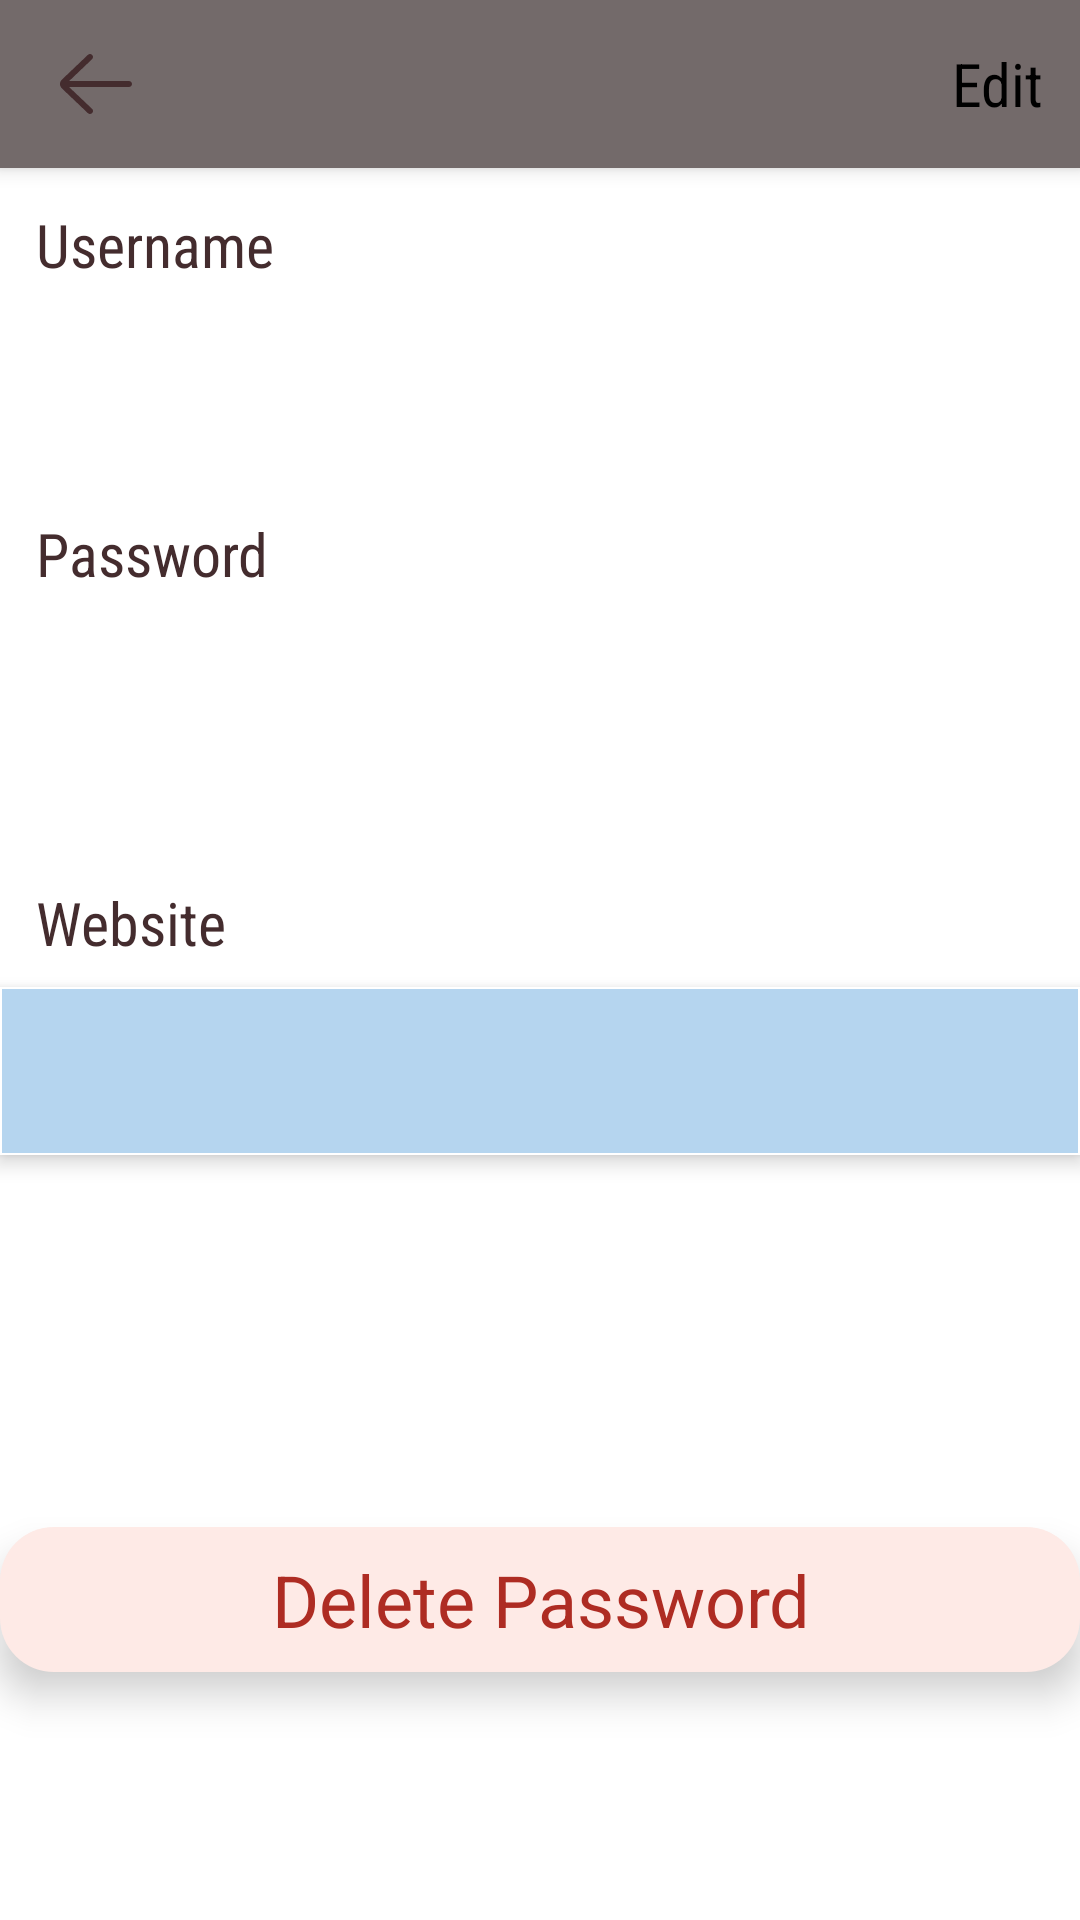

Icon click points for this 1080*1920 phone screenshot, format (x,y):
cursor back: (96,84)
